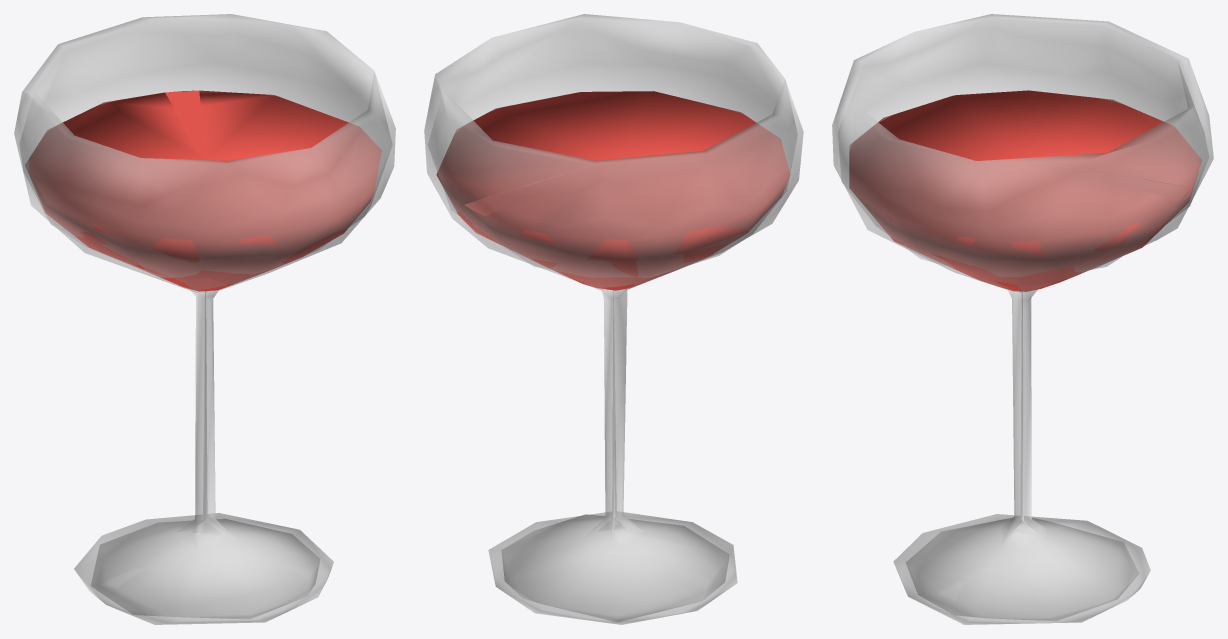
File: 2_pembekokteyl.fbx
3 renders of one model, left to right at view 1: azimuth 30°, elevation 25°; view 2: azimuth 150°, elevation 25°; view 3: azimuth 270°, elevation 25°, orthographic.
Visible parts, largest first — view 1: Cylinder.005; view 2: Cylinder.005; view 3: Cylinder.005.
Boxes of the visible parts, <box> form: Cylinder.005: <box>14,14,395,624</box>; Cylinder.005: <box>424,14,803,624</box>; Cylinder.005: <box>832,14,1213,624</box>.
Bounding box in the file's own units: 427 × 606 × 428.
